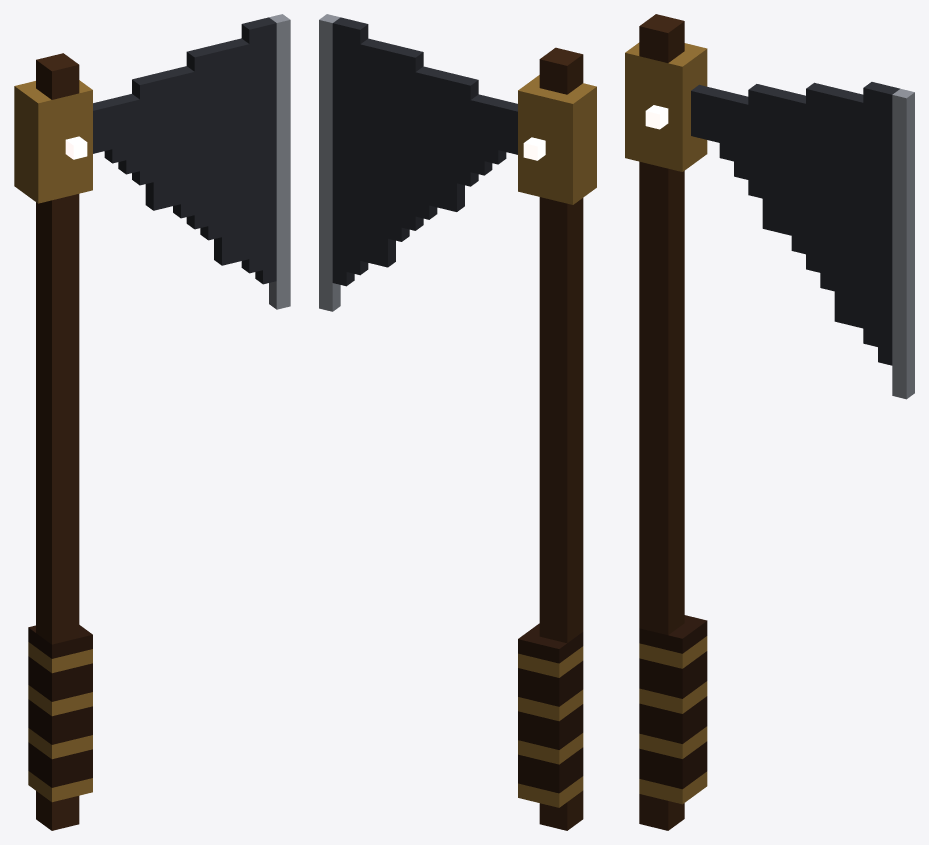
The model's file is steel_dane_axe.glb.
The picture shows the model from 3 angles, left to right: view 1: azimuth 30°, elevation 25°; view 2: azimuth 150°, elevation 25°; view 3: azimuth 330°, elevation 25°; orthographic projection. The views are drawn at different scales.
Parts seen in each view (by area): view 1: steel_dane_axe; view 2: steel_dane_axe; view 3: steel_dane_axe.
Part boxes in pixels (<box>): steel_dane_axe: <box>14,14,290,830</box>; steel_dane_axe: <box>319,14,596,830</box>; steel_dane_axe: <box>625,14,914,830</box>.
Size of the model in its own units: 0.285 by 0.795 by 0.075.
